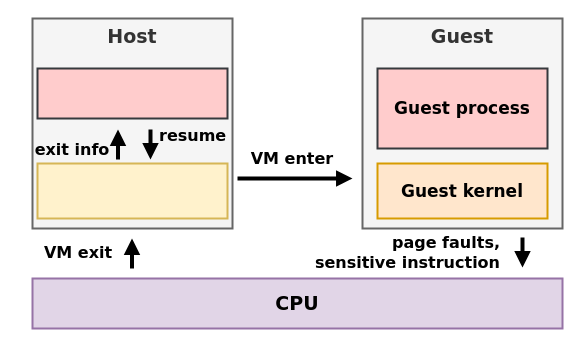
Some shapes in this 580 by 346 pixel diagram are drawn without their labels. The centre of each missing label's shape, as x and y in pixels:
"Host kernel" goes at point (132, 190).
"Host process (VMM)" goes at point (132, 93).
